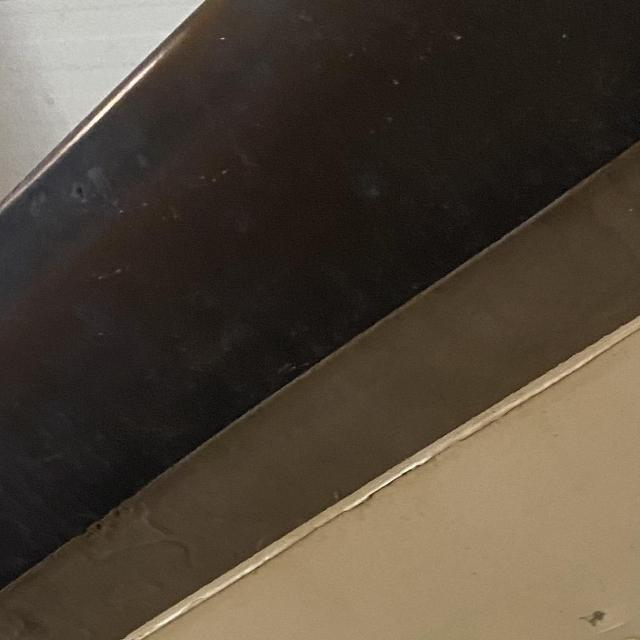Paint-off: (566, 603, 617, 624)
